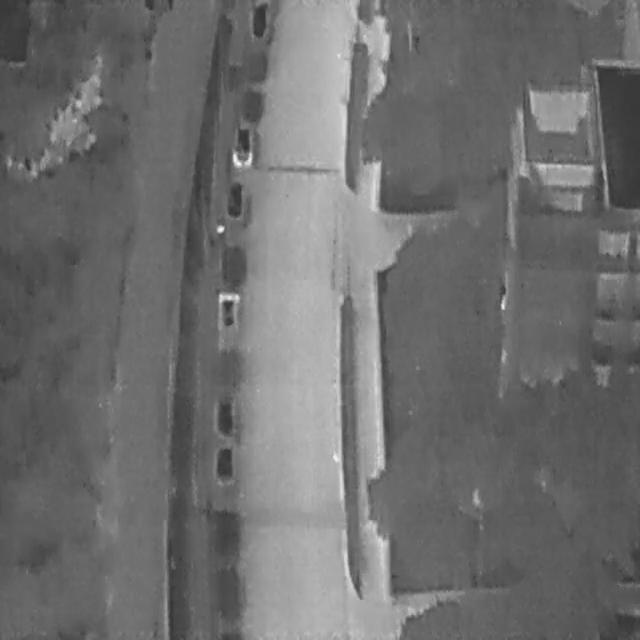Car: (232, 121, 252, 165), (217, 290, 239, 330), (224, 180, 243, 216), (215, 445, 232, 481), (250, 2, 266, 38), (216, 400, 232, 434)
